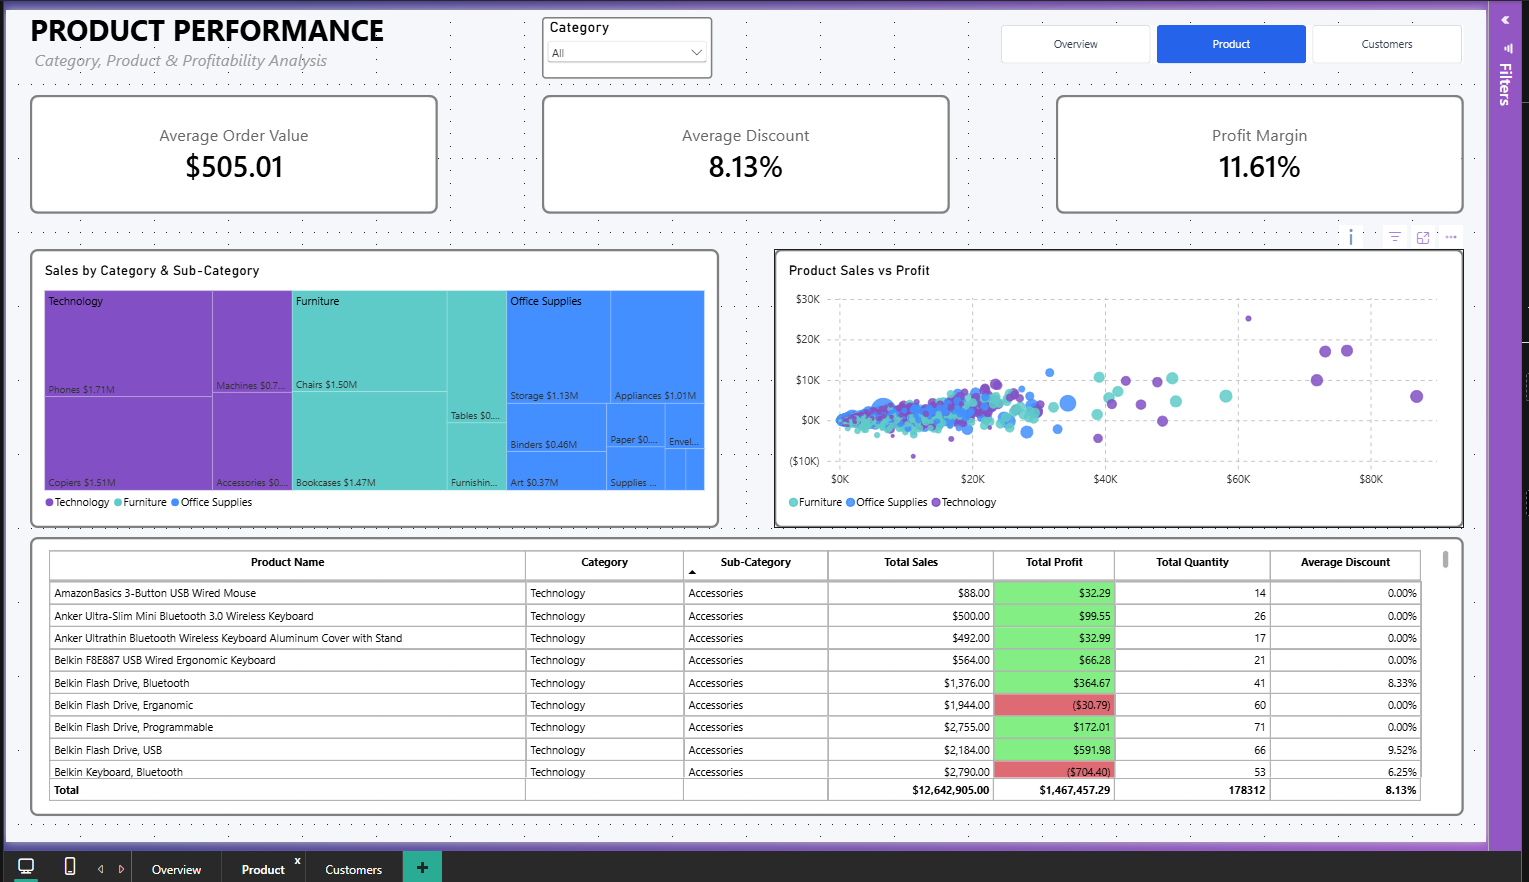

The page's visual inventory and layout, read from the dashboard file:
{"tool":"powerbi","page":{"name":"Product","canvas":[1920,1080],"ordinal":1},"visuals":[{"type":"textbox","box":[31.1,0,472.2,89.5],"z":0},{"type":"cardVisual","fields":{"Data":["Global Superstore.Average Order Value"]},"box":[31.1,110.3,529.3,154.4],"z":3},{"type":"cardVisual","fields":{"Data":["Global Superstore.Average Discount"]},"box":[695.4,110.3,529.3,154.4],"z":4},{"type":"cardVisual","fields":{"Data":["Global Superstore.Profit Margin"]},"box":[1362.2,110.3,529.3,154.4],"z":5},{"type":"treemap","title":"Sales by Category & Sub-Category","fields":{"Details":["Global Superstore.Sub-Category"],"Group":["Global Superstore.Category"],"Values":["Global Superstore.Total Sales"]},"box":[31.1,310.1,893.8,361.9],"z":6},{"type":"scatterChart","title":"Product Sales vs Profit","fields":{"Category":["Global Superstore.Product Name"],"Series":["Global Superstore.Category"],"Size":["Global Superstore.Total Quantity"],"X":["Global Superstore.Total Sales"],"Y":["Global Superstore.Total Profit"]},"box":[996.3,310.1,895.1,361.9],"z":7},{"type":"tableEx","fields":{"Values":["Global Superstore.Product Name","Global Superstore.Category","Global Superstore.Sub-Category","Global Superstore.Total Sales","Global Superstore.Total Profit","Global Superstore.Total Quantity","Global Superstore.Average Discount"]},"box":[31.1,683.7,1860.3,361.9],"z":8},{"type":"slicer","fields":{"Values":["Global Superstore.Category"]},"box":[695.4,9.1,220.5,80.4],"z":9},{"type":"pageNavigator","box":[1290.8,19.2,600,50],"z":11}]}

Visuals, with their boxes on the page's 1920x1080 design canvas (x1, y1, x2, y2). These are canvas units, not pixel positions in the 1529x882 screenshot, which may show the page scaled, cropped or inside an application window:
textbox: 31,0,503,90
cardVisual - Global Superstore.Average Order Value: 31,110,560,265
cardVisual - Global Superstore.Average Discount: 695,110,1225,265
cardVisual - Global Superstore.Profit Margin: 1362,110,1892,265
"Sales by Category & Sub-Category" treemap: 31,310,925,672
"Product Sales vs Profit" scatterChart: 996,310,1891,672
tableEx - Global Superstore.Product Name x Global Superstore.Category: 31,684,1891,1046
slicer - Global Superstore.Category: 695,9,916,90
pageNavigator: 1291,19,1891,69
